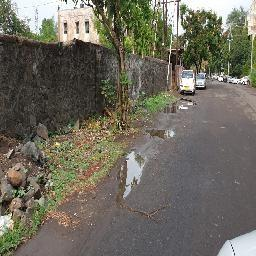water accumulation: (117, 151, 145, 205), (162, 100, 195, 114), (144, 128, 175, 141)
